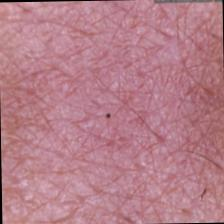Normal: (0, 5, 224, 222)
